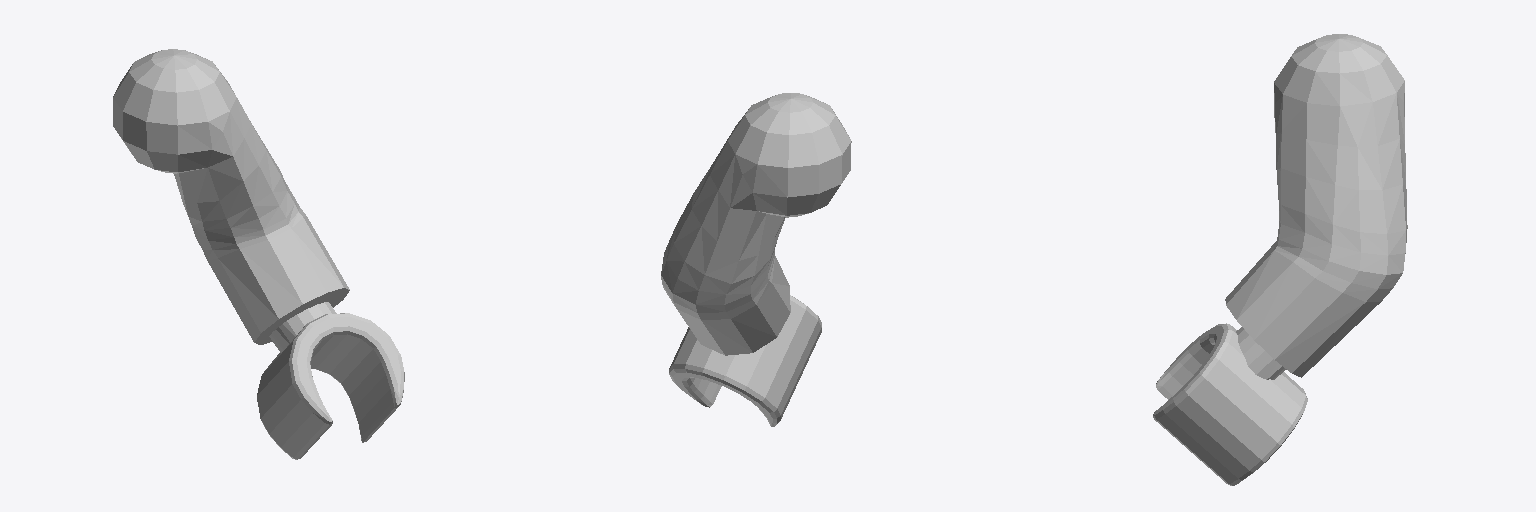
File: SantaLeftArm.obj
3 views of the same model, side by side, from view 1: azimuth 30°, elevation 25°; view 2: azimuth 150°, elevation 25°; view 3: azimuth 270°, elevation 25° (orthographic).
Parts seen in each view (by area): view 1: Mesh_0142.003_Mesh_0142Mesh.002, Mesh_0140_Mesh_0140Mesh.002; view 2: Mesh_0142.003_Mesh_0142Mesh.002, Mesh_0140_Mesh_0140Mesh.002; view 3: Mesh_0142.003_Mesh_0142Mesh.002, Mesh_0140_Mesh_0140Mesh.002.
Part boxes in pixels (x1,y1,x2,y2): Mesh_0142.003_Mesh_0142Mesh.002: (113, 49, 349, 344); Mesh_0140_Mesh_0140Mesh.002: (257, 302, 404, 459); Mesh_0142.003_Mesh_0142Mesh.002: (661, 93, 851, 355); Mesh_0140_Mesh_0140Mesh.002: (669, 295, 821, 426); Mesh_0142.003_Mesh_0142Mesh.002: (1225, 34, 1407, 377); Mesh_0140_Mesh_0140Mesh.002: (1153, 323, 1307, 485).
Bounding box in the file's own units: 0.0874 × 0.1541 × 0.0929.